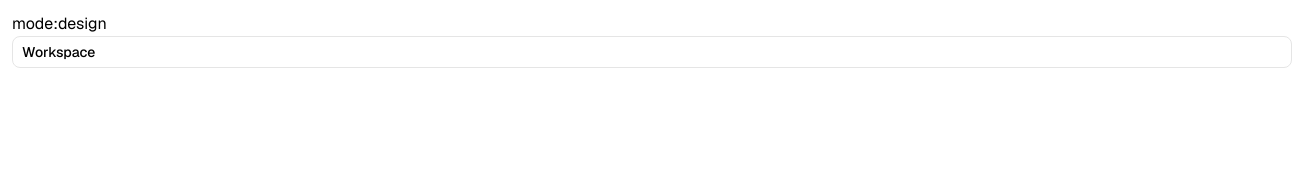
Test: Menubar › selects a radio item
Expected: the text "mode:design" is shown, [12,13,107,34]
Click the menu item "Workspace": (59, 52) [16,40,101,64]
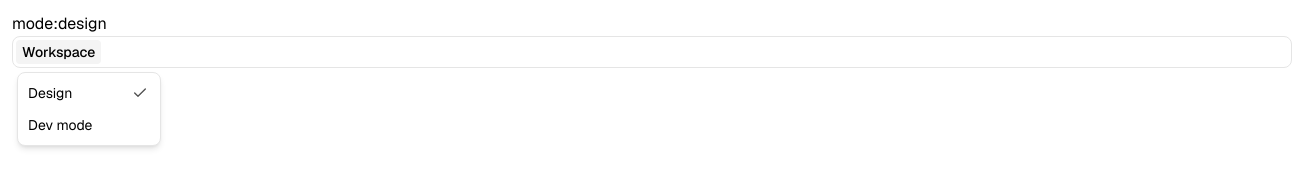
Click the menu item "Dev mode": (60, 125) [28,116,92,134]
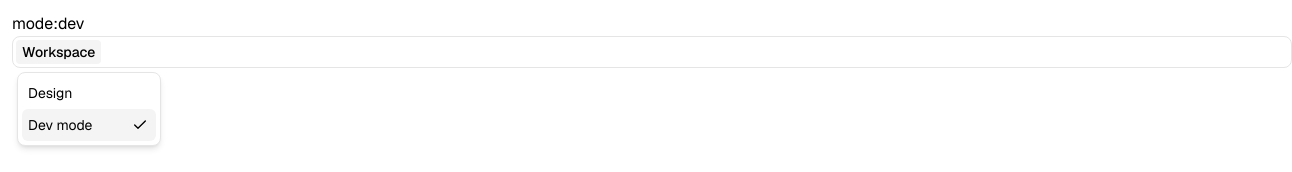
Expected: the text "mode:dev" is shown, [12,13,84,34]
